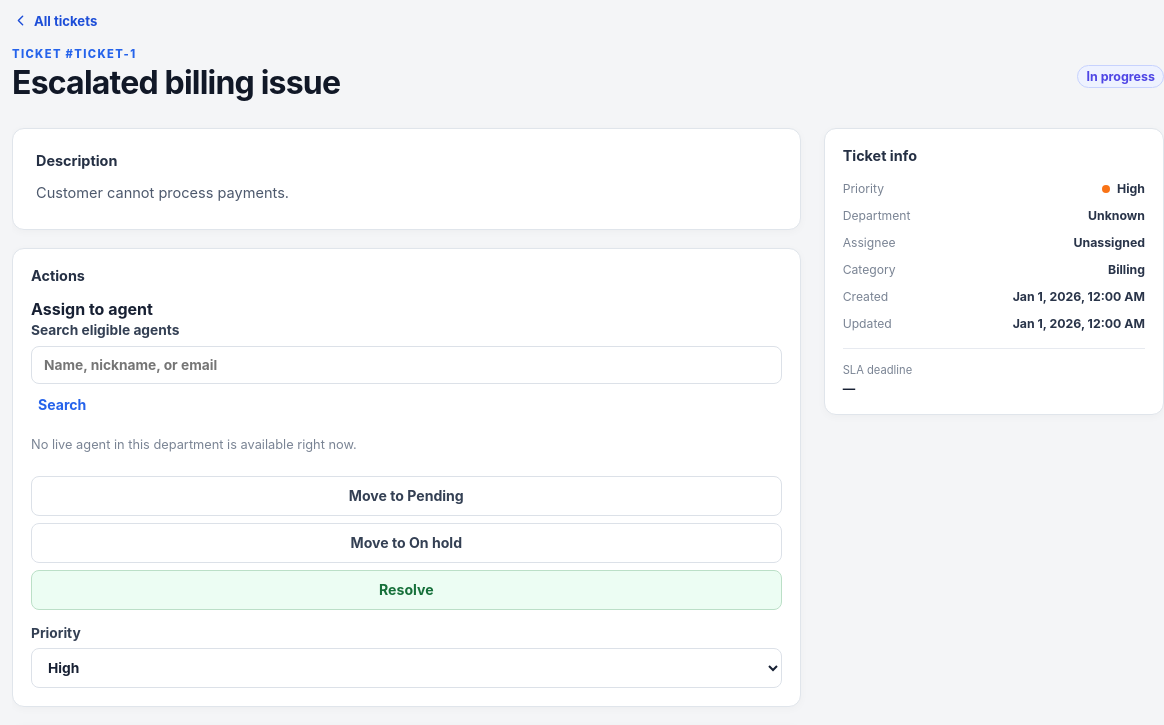
Test case: TicketDetailPage conversation and error states › surfaces a 409 conflict with a reload path instead of overwriting state
Expected: the heading "Escalated billing issue" is shown, [12,64,340,102]
Click the button "Move to Pending" at [406, 496], box [31,476,782,516]
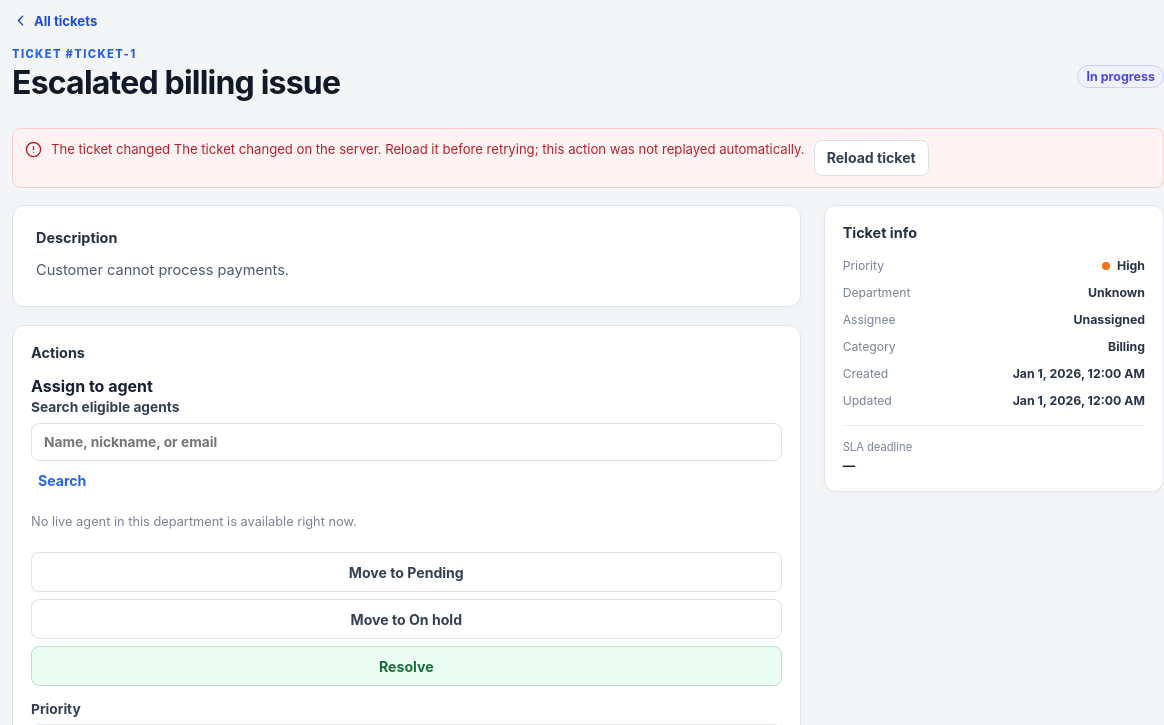
Now the text "Reload it before retrying" is shown, box [174,141,805,157]
Now the button "Reload ticket" is shown, box [814,140,929,176]
